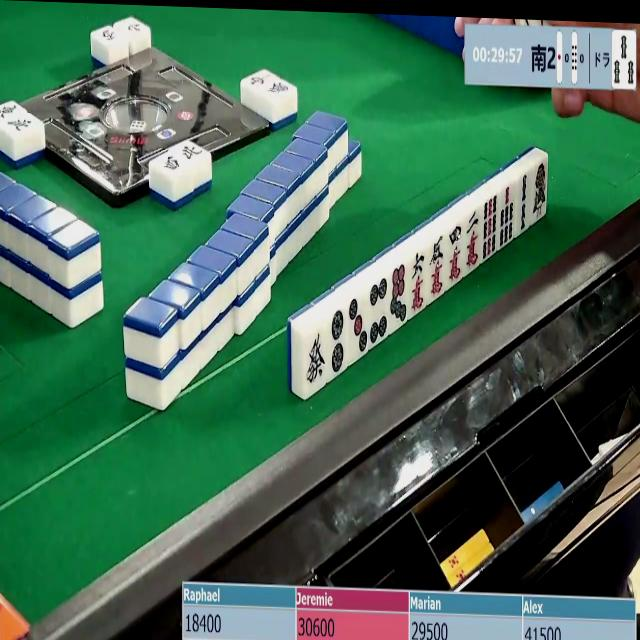fa: (304, 325, 328, 396)
m2: (464, 208, 481, 273)
m4: (446, 222, 466, 285)
m5: (429, 235, 450, 300)
m6: (408, 249, 432, 317)
s1: (531, 161, 549, 222)
s2: (516, 172, 530, 238)
s3: (613, 31, 636, 90)
s7: (498, 184, 516, 251)
s9: (483, 194, 499, 262)
t2: (330, 303, 350, 378)
t3: (345, 289, 369, 365)
t4: (369, 278, 389, 343)
t7: (388, 260, 411, 328)
